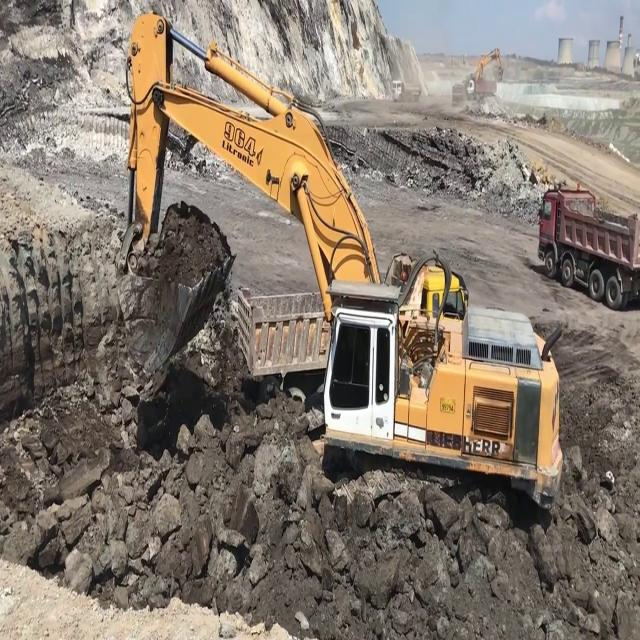excavator: (116, 12, 563, 528)
